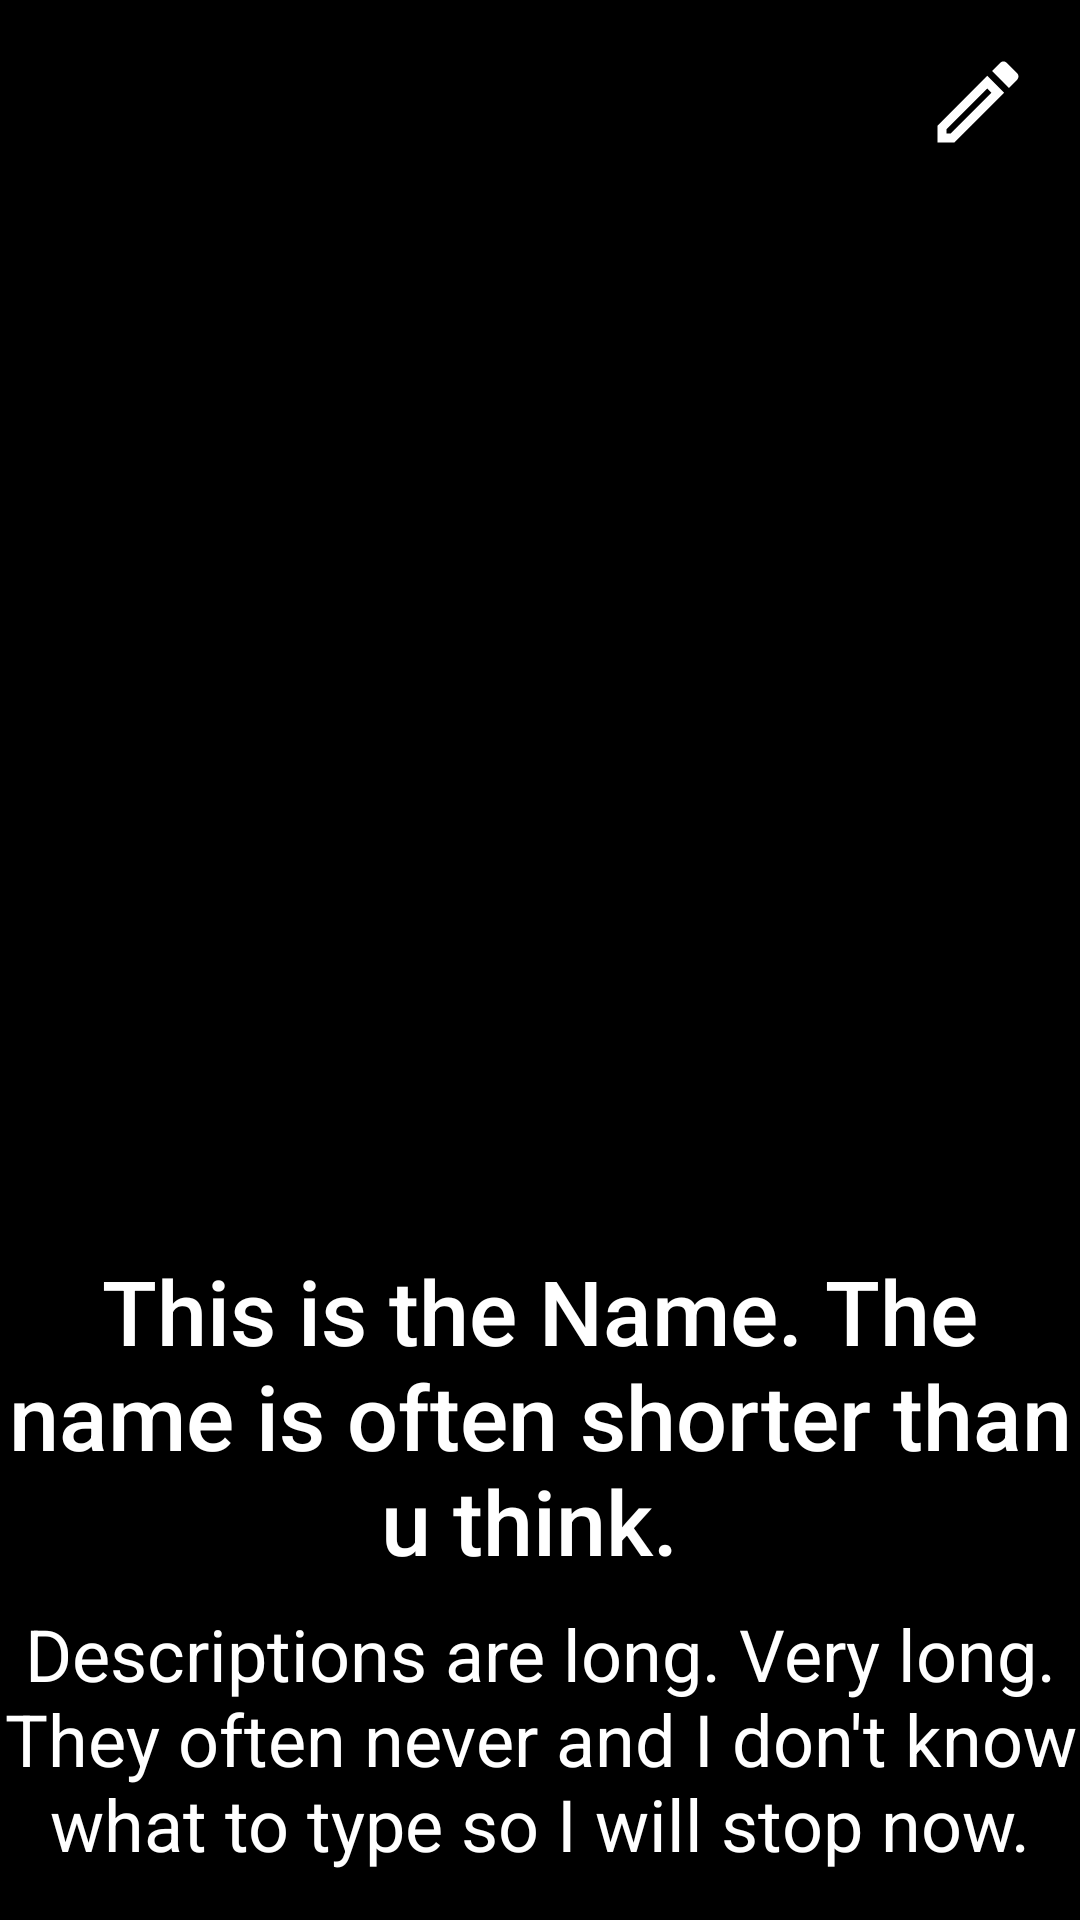

Named icons in this screenshot (1080x1920) and their bounding boxes, bbox=[x1, y1, x2, y2]:
create: bbox=[937, 61, 1019, 143]
